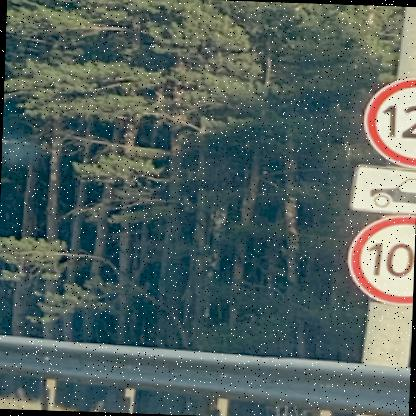speedlimit: (346, 213, 414, 306), (361, 74, 415, 165)
